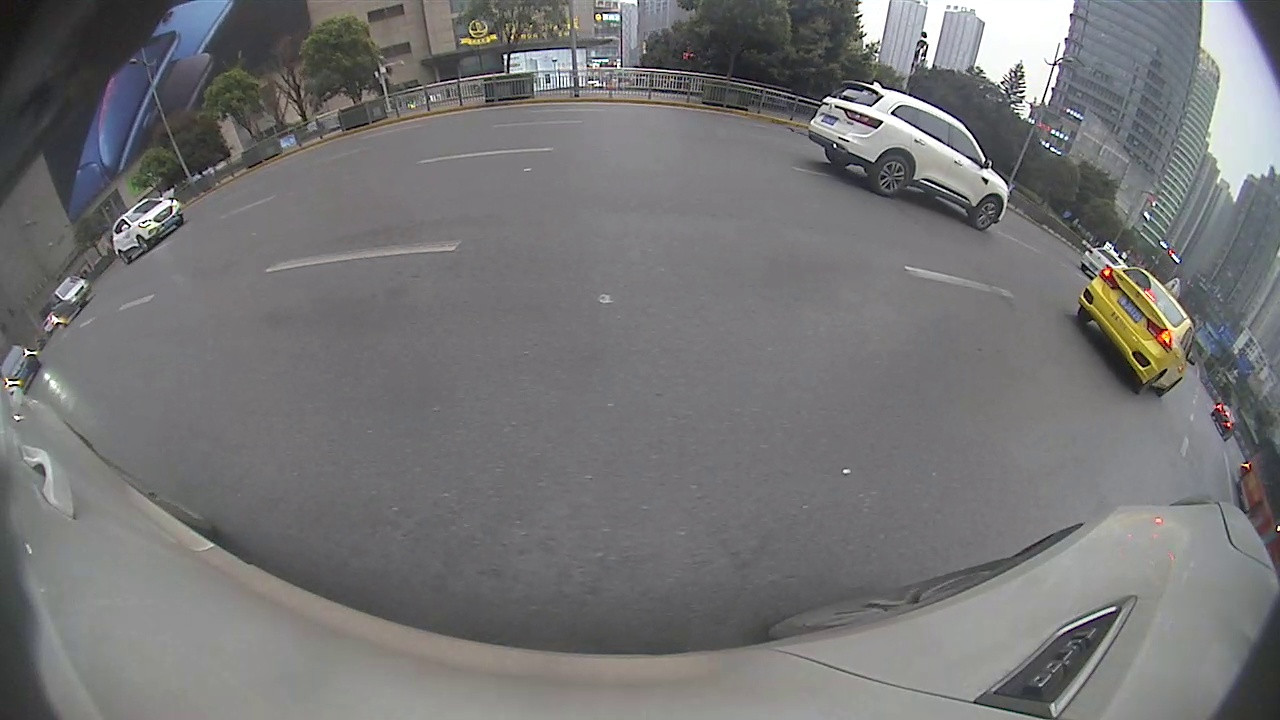car: (806, 78, 1013, 233), (1068, 238, 1192, 400), (111, 196, 185, 265), (1079, 247, 1126, 280)
front: (970, 195, 1003, 232), (136, 235, 148, 254)
rear: (868, 152, 916, 197), (115, 251, 128, 267)
